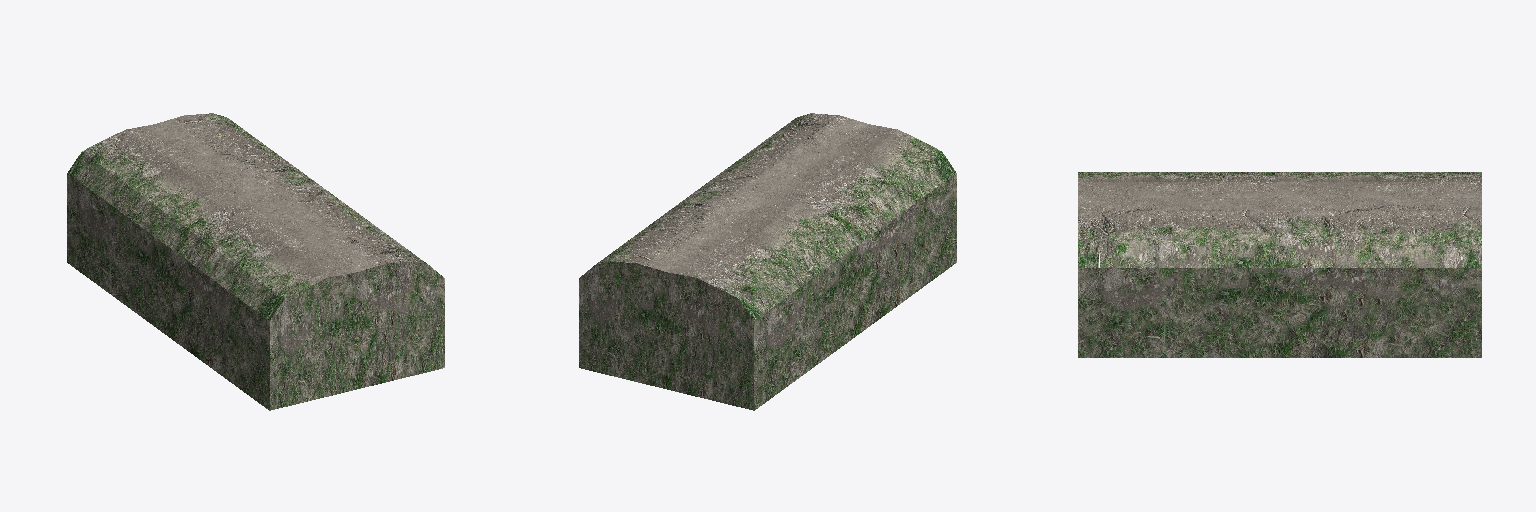
3 views of the same model, side by side, from view 1: azimuth 30°, elevation 25°; view 2: azimuth 150°, elevation 25°; view 3: azimuth 270°, elevation 25° (orthographic).
Parts seen in each view (by area): view 1: DirtPath; view 2: DirtPath; view 3: DirtPath.
Boxes of the visible parts, x1,y1,x2,y2 form: DirtPath: [67, 113, 444, 410]; DirtPath: [579, 113, 956, 410]; DirtPath: [1078, 172, 1481, 357].
Size of the model in its own units: 5.01 by 3.25 by 10.02.
1 materials, 1 textured.